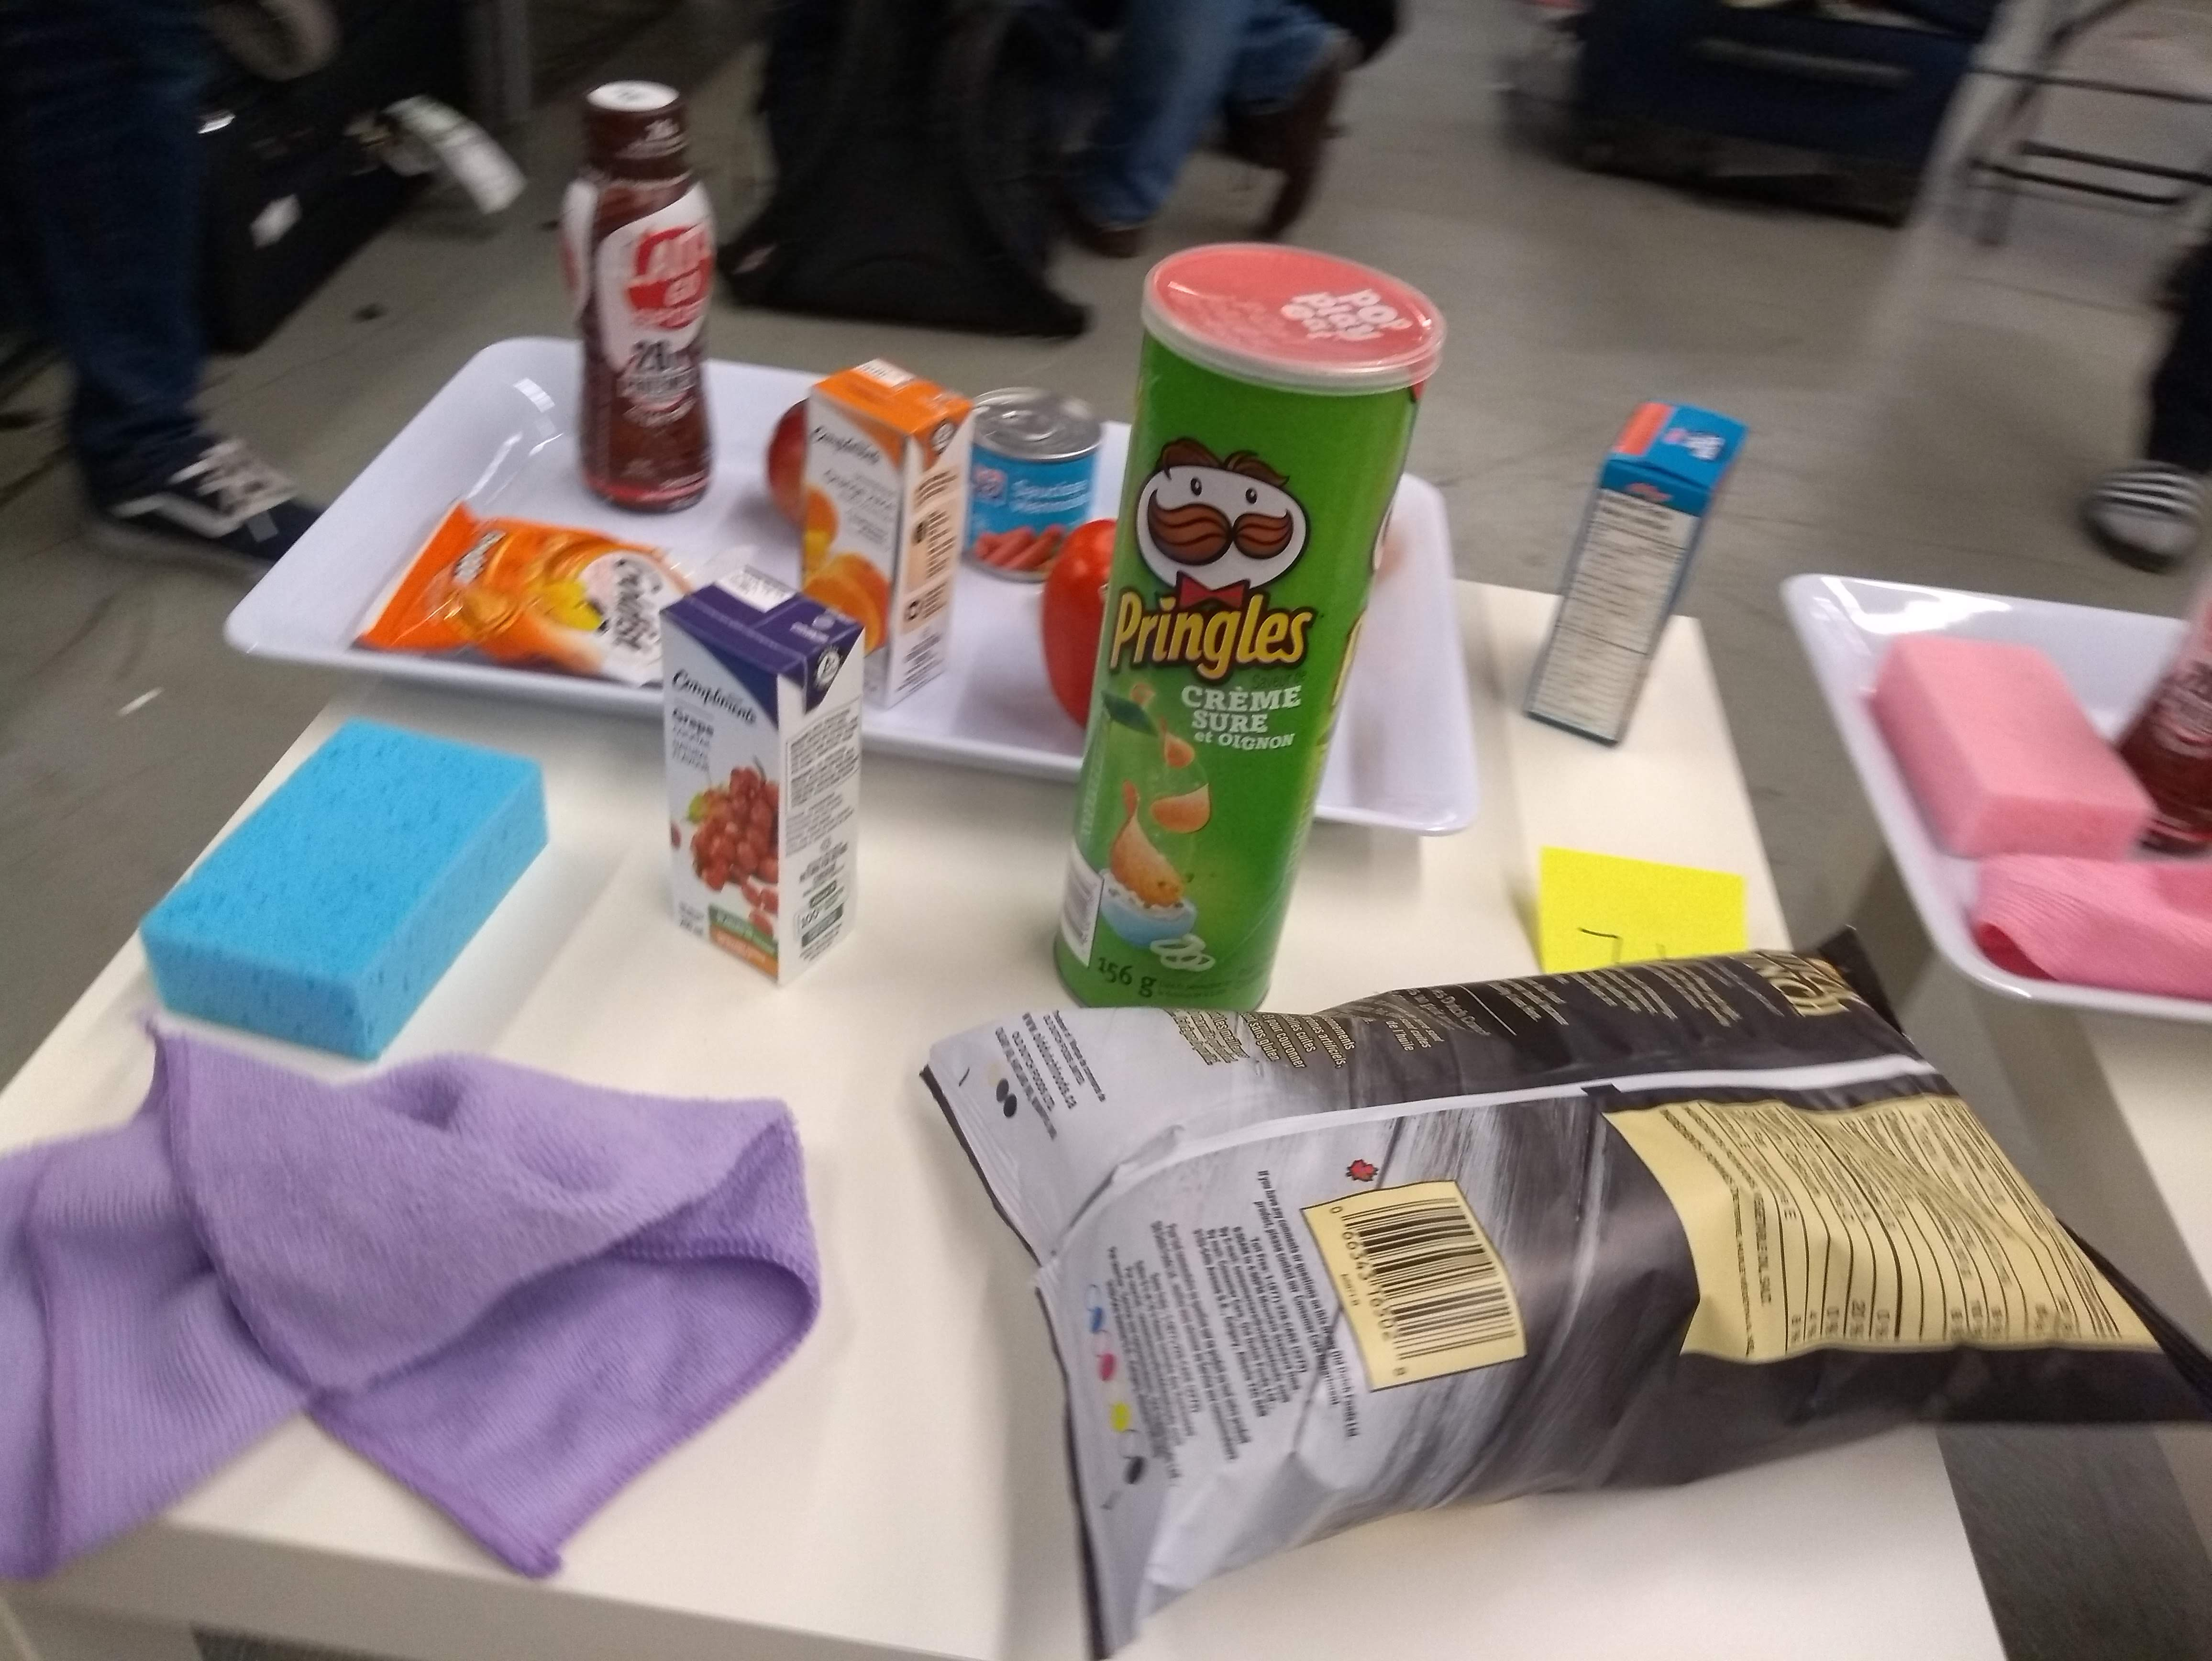cereal: (1523, 393, 1751, 752)
chocolate_drink: (555, 63, 720, 522)
cloth_opl: (0, 1033, 836, 1591)
crackers: (375, 506, 677, 682)
grape_juice: (644, 564, 876, 988)
orange_juice: (804, 358, 970, 708)
potato_chips: (937, 961, 2212, 1586)
pringles: (1040, 237, 1446, 1014)
sausages: (968, 384, 1104, 581)
sponge_opl: (131, 719, 551, 1061)
